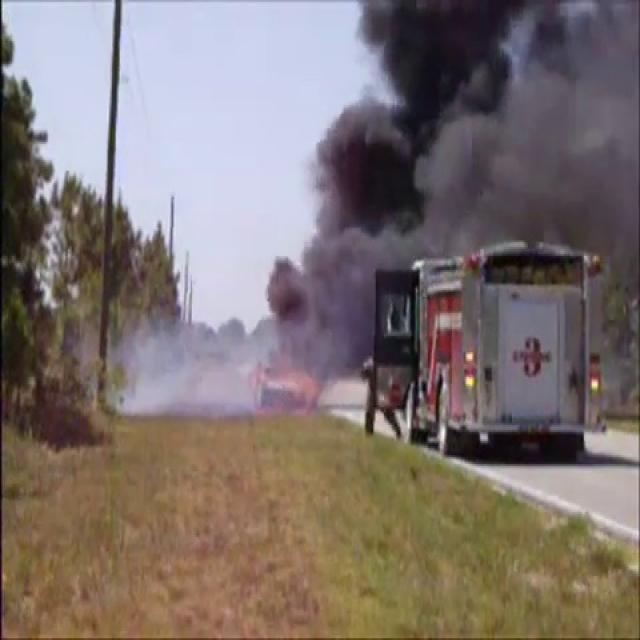Smoke: (256, 0, 640, 382), (122, 321, 265, 420)
